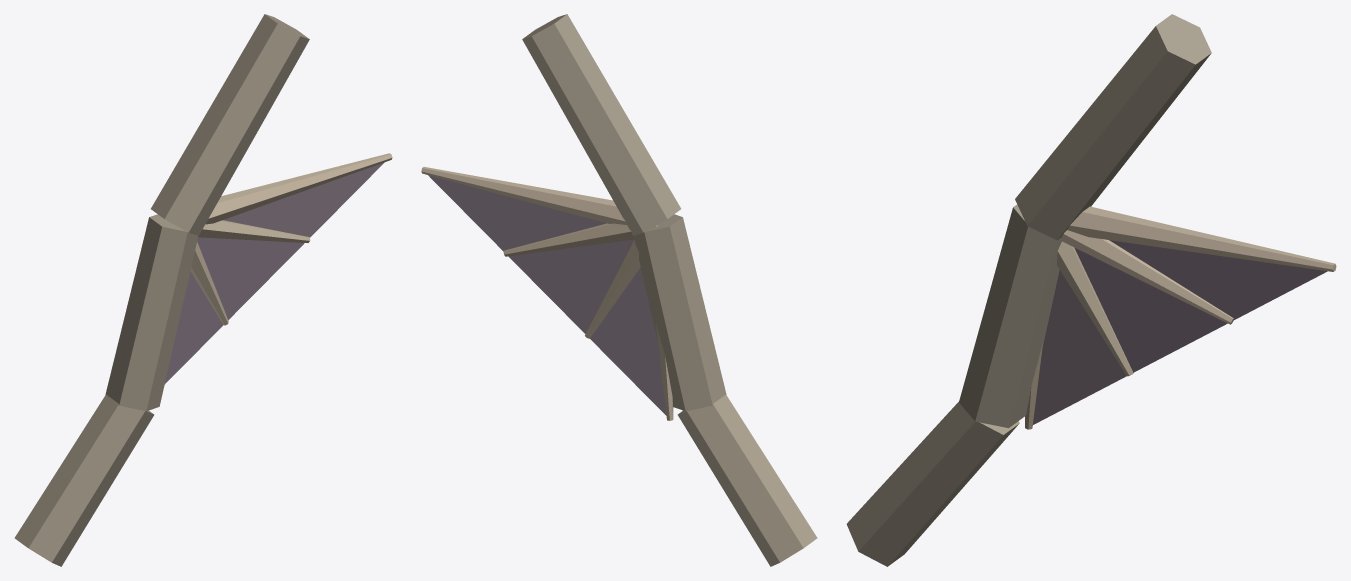
File: map-exclusive-v3__dragon_04.glb
3 views of the same model, side by side, from view 1: azimuth 30°, elevation 25°; view 2: azimuth 150°, elevation 25°; view 3: azimuth 330°, elevation 25° (orthographic). The views are drawn at different scales.
Parts seen in each view (by area): view 1: dragon_04; view 2: dragon_04; view 3: dragon_04.
Boxes of the visible parts, <box> form: dragon_04: <box>14,14,392,566</box>; dragon_04: <box>421,14,817,566</box>; dragon_04: <box>846,14,1336,566</box>.
Size of the model in its own units: 1.88 by 2.33 by 0.24.
